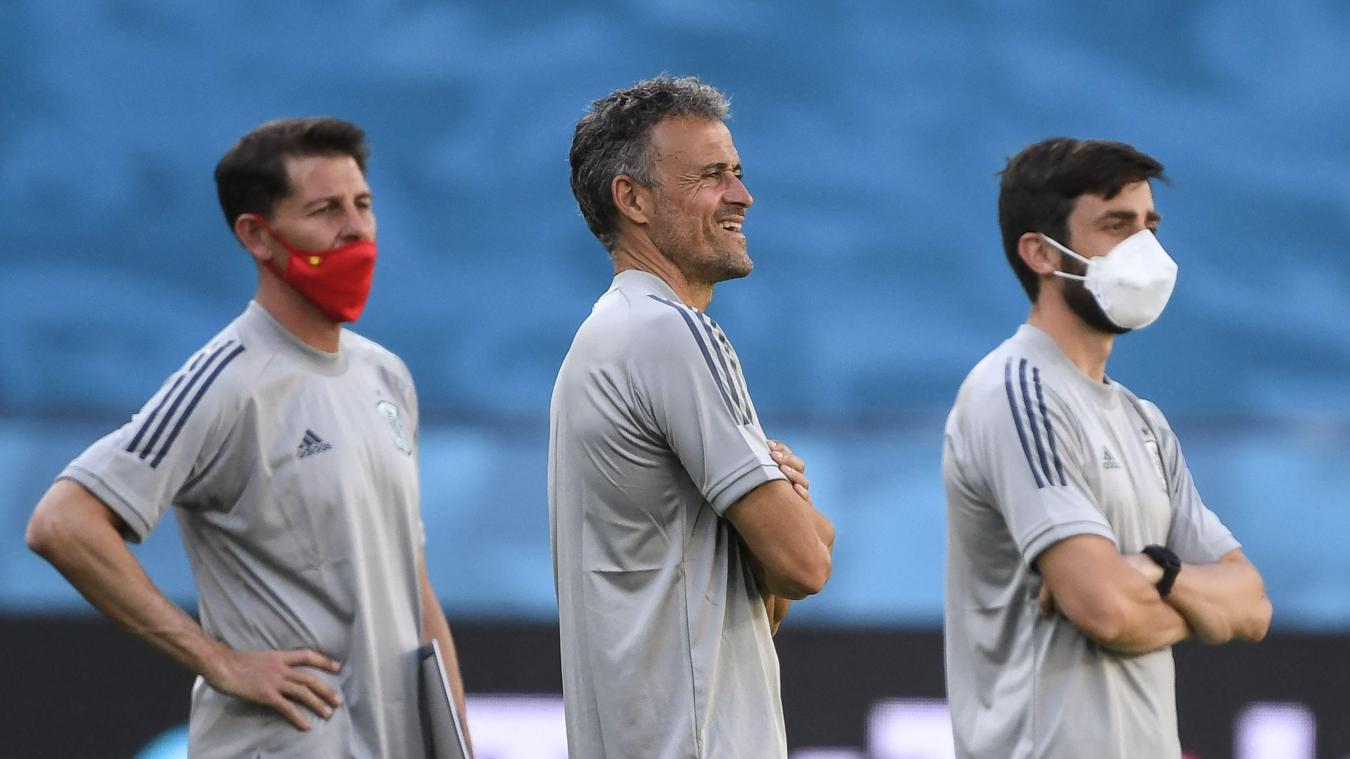with_incorrect_mask: (253, 148, 390, 331)
with_mask: (1039, 179, 1190, 356)
without_mask: (627, 109, 778, 309)
